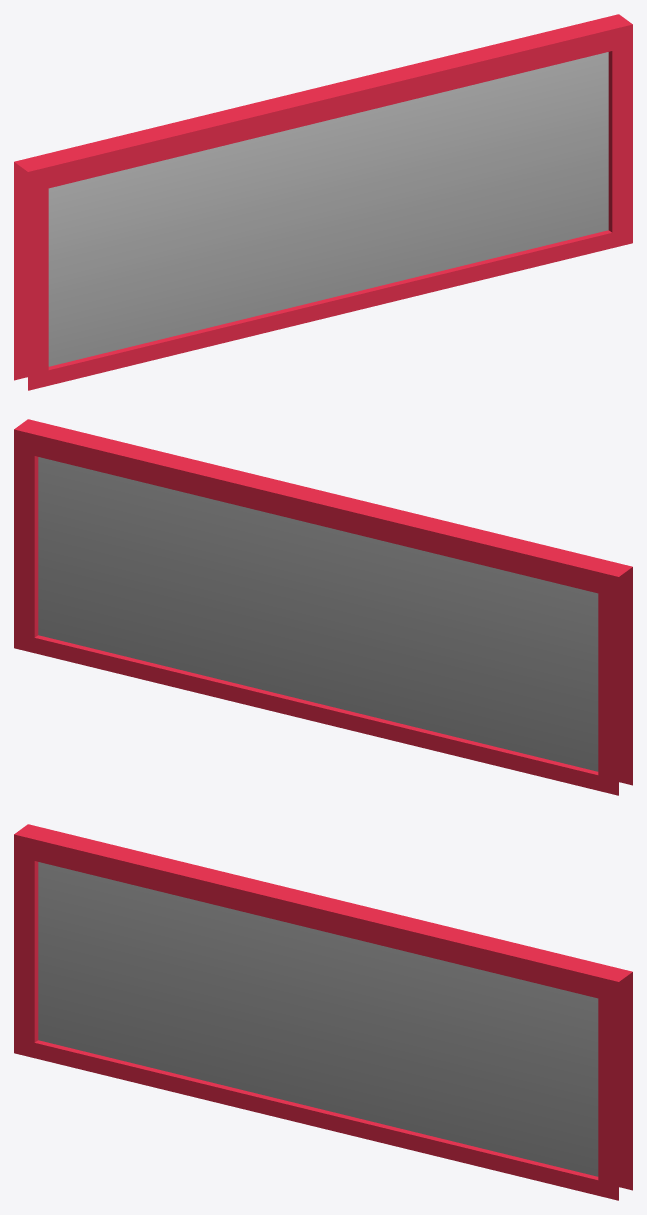
File: WallPasar1.fbx
3 renders of one model, top to bottom at view 1: azimuth 30°, elevation 25°; view 2: azimuth 150°, elevation 25°; view 3: azimuth 330°, elevation 25°, orthographic.
Visible parts, largest first — view 1: WallPasar1_LOD0; view 2: WallPasar1_LOD0; view 3: WallPasar1_LOD0.
Part boxes in pixels (<box>): WallPasar1_LOD0: <box>14,14,632,390</box>; WallPasar1_LOD0: <box>14,419,632,795</box>; WallPasar1_LOD0: <box>14,824,632,1200</box>.
Size of what is drawn, in the model's own units: 1038 by 359 by 41.83.
